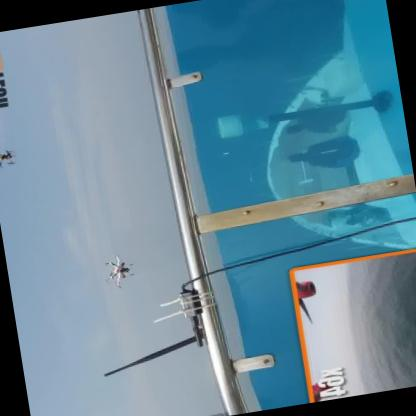drone: (99, 249, 140, 288), (0, 139, 21, 172)
